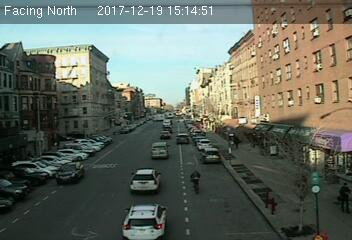bicycle: (190, 169, 201, 197)
car: (122, 200, 169, 240), (130, 168, 160, 193), (55, 161, 85, 185), (150, 140, 168, 158), (201, 148, 220, 161), (175, 133, 189, 143), (159, 129, 170, 137)
